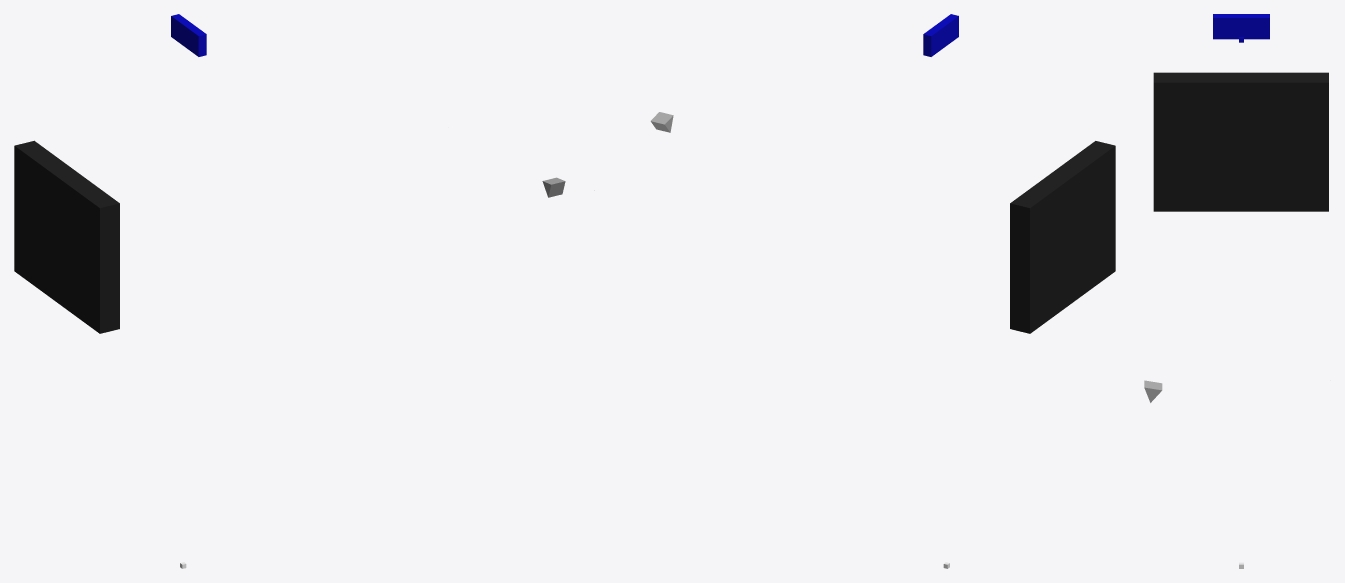
The model's file is pr2_with_sensor.dae.
The picture shows the model from 3 angles, left to right: view 1: azimuth 30°, elevation 25°; view 2: azimuth 150°, elevation 25°; view 3: azimuth 270°, elevation 25°; orthographic projection. The views are drawn at different scales.
Visible parts, largest first — view 1: base_bellow_link, double_stereo_link; view 2: base_bellow_link, double_stereo_link; view 3: base_bellow_link, double_stereo_link, r_force_torque_link.
Boxes of the visible parts, x1,y1,x2,y2 form: base_bellow_link: [14, 140, 119, 333]; double_stereo_link: [171, 14, 206, 56]; base_bellow_link: [1010, 141, 1115, 333]; double_stereo_link: [923, 14, 958, 56]; base_bellow_link: [1153, 72, 1328, 211]; double_stereo_link: [1213, 14, 1269, 39]; r_force_torque_link: [1144, 380, 1162, 402].
Size of the model in its own units: 1.15 by 0.3937 by 1.29.
